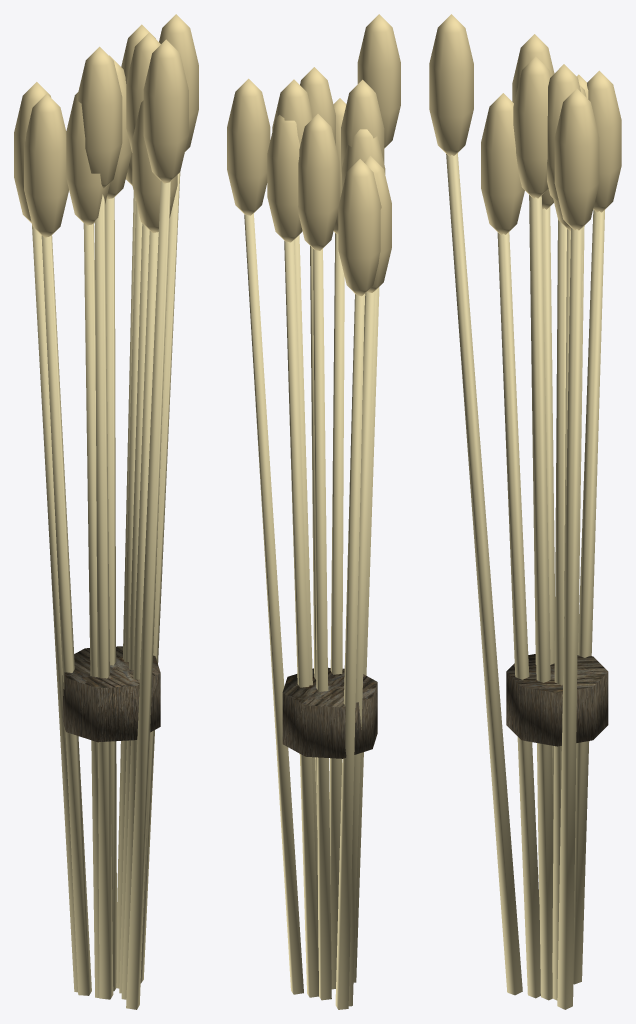
File: SM_Item_grain.gltf
3 views of the same model, side by side, from view 1: azimuth 30°, elevation 25°; view 2: azimuth 150°, elevation 25°; view 3: azimuth 270°, elevation 25° (orthographic). The views are drawn at different scales.
Visible parts, largest first — view 1: SM_Item_grain; view 2: SM_Item_grain; view 3: SM_Item_grain.
Part boxes in pixels (x1,y1,x2,y2): SM_Item_grain: (14, 14, 198, 1009); SM_Item_grain: (227, 14, 400, 1009); SM_Item_grain: (429, 14, 621, 1009).
Size of the model in its own units: 0.0946 by 0.5506 by 0.0981.
3 materials, 1 textured.
